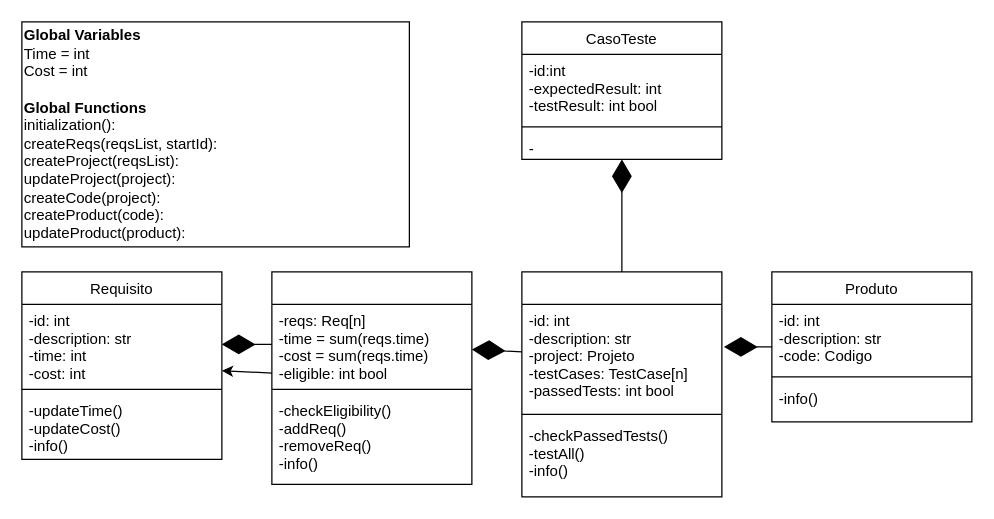
Some shapes in this 994 by 519 pixel diagram are drawn without their labels. Each missing label, with the box of its shape:
Codigo: (521, 271, 722, 497)
Projeto: (271, 271, 472, 484)
